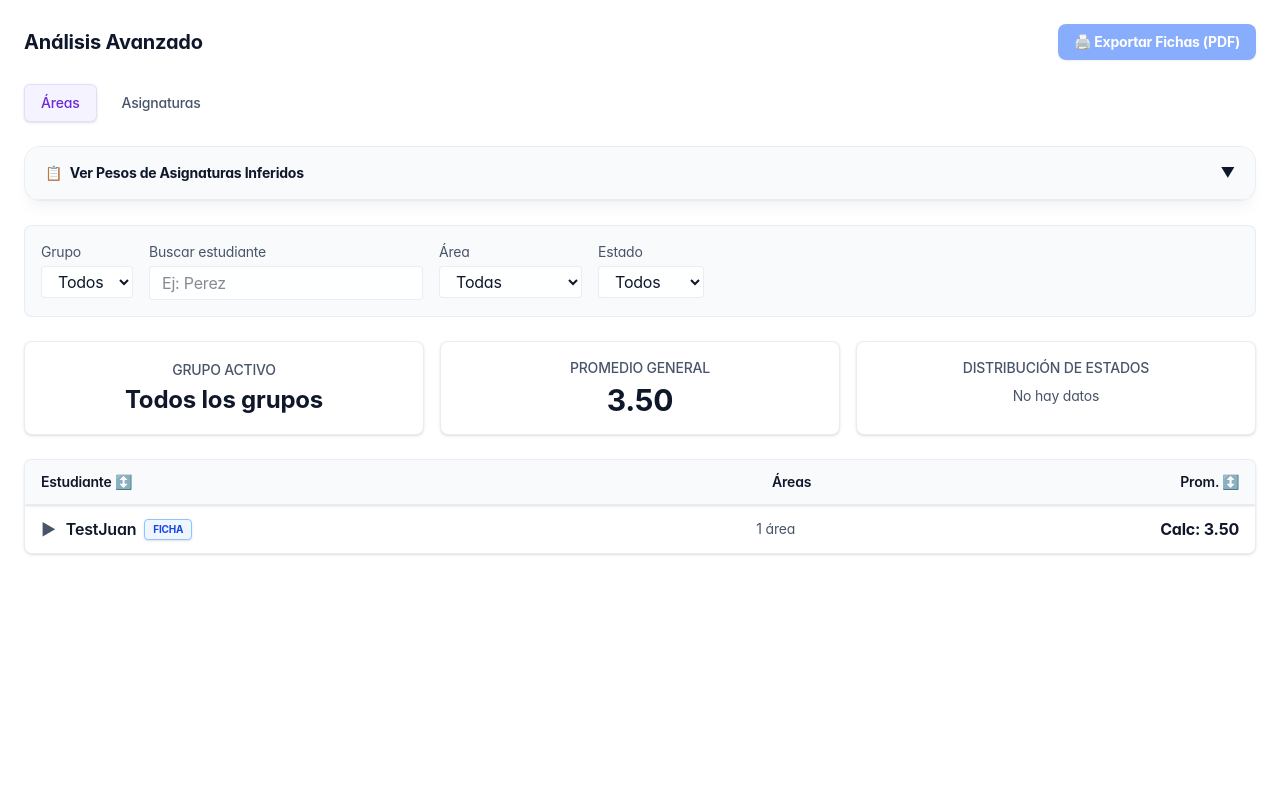
Test: AnalysisTab › renders "Mín. P3" header when P4 is not active
The width and height of the screenshot is (1280, 800).
Click the text "TestJuan": (117, 529) [41,518,192,540]
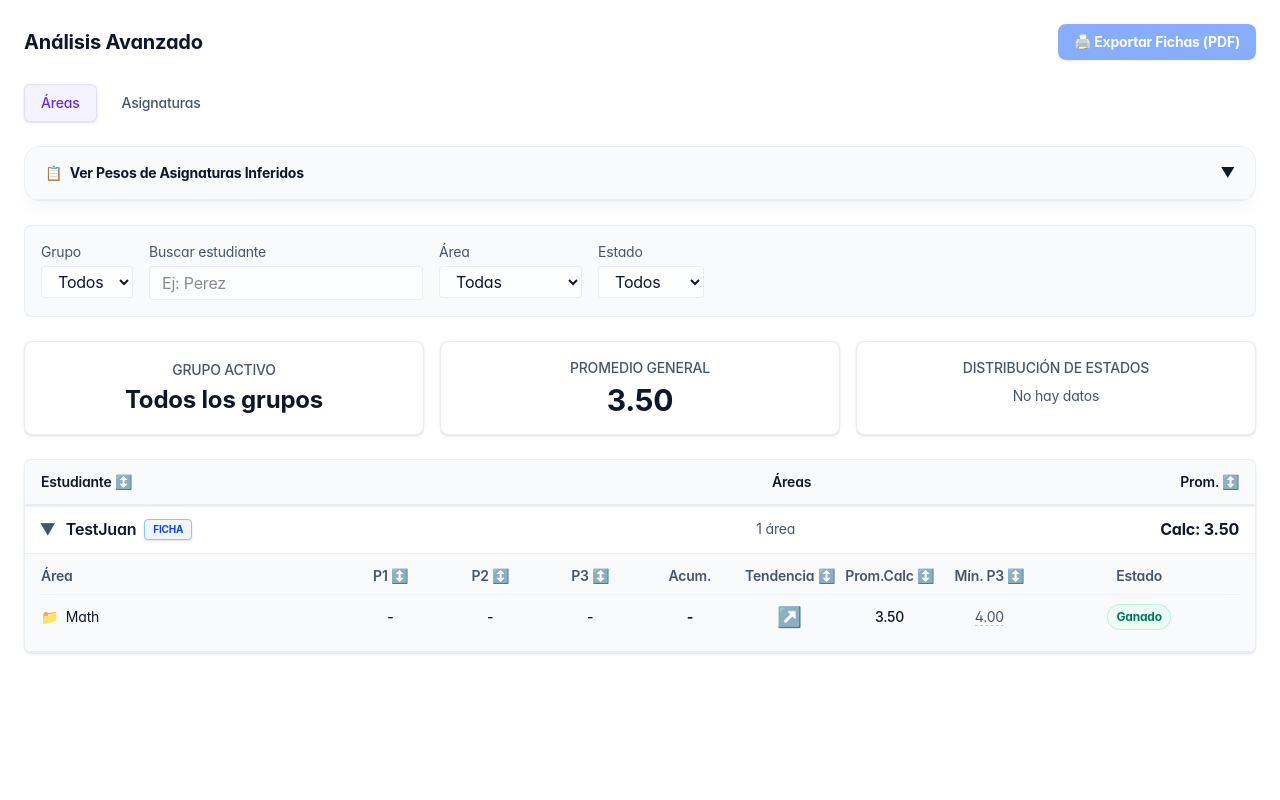
Now the column heading "Mín. P3 ↕️" is shown, box [940,566,1039,594]
